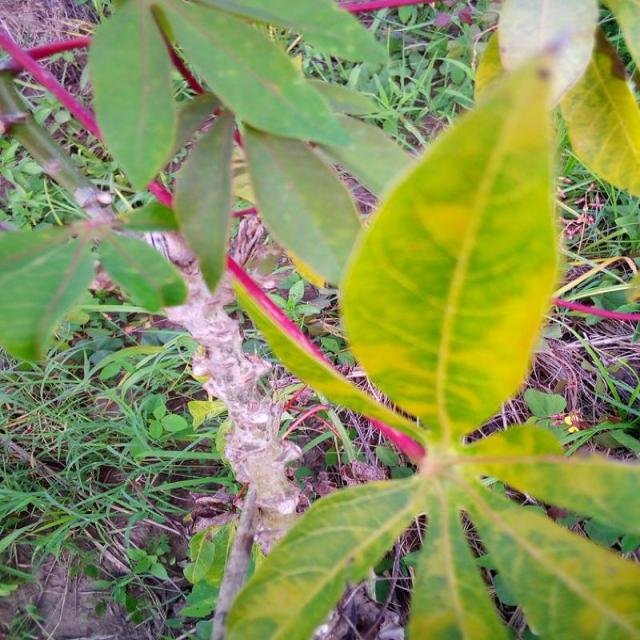cassava leaf: (337, 54, 563, 444)
